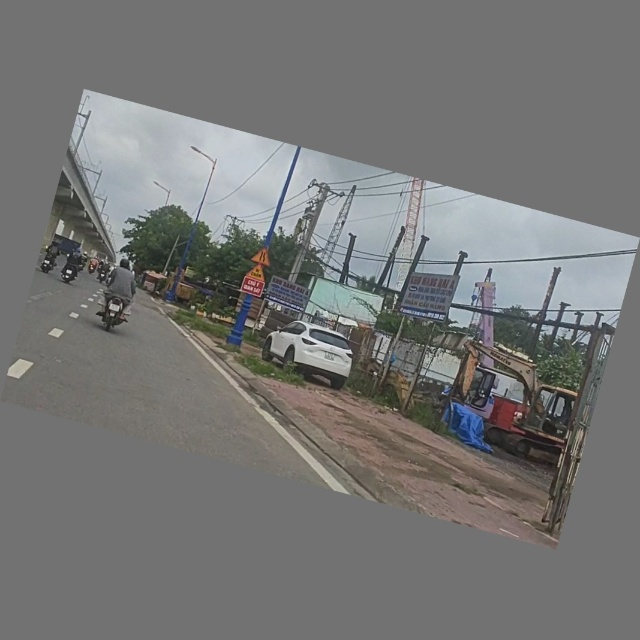W.203c: (251, 246, 274, 267)
W.245a: (245, 262, 269, 283)
